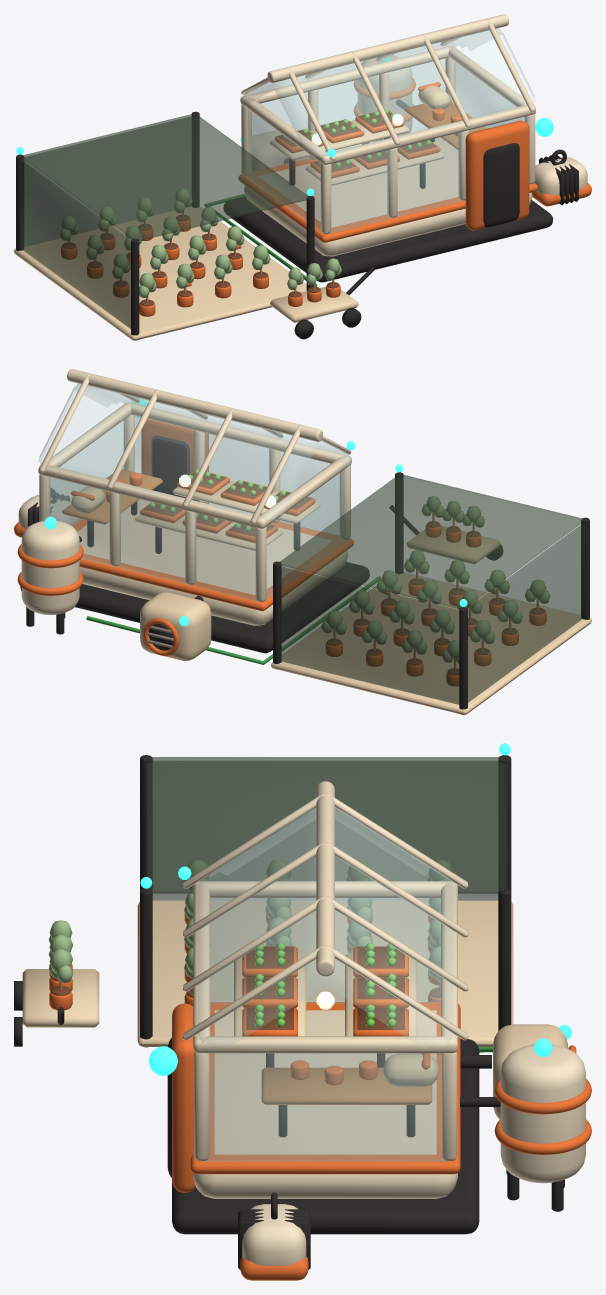
The model's file is nursery.glb.
3 renders of one model, top to bottom at view 1: azimuth 30°, elevation 25°; view 2: azimuth 150°, elevation 25°; view 3: azimuth 270°, elevation 25°, orthographic. The views are drawn at different scales.
Visible parts, largest first — view 1: Cube.003, Cube.058, Cube.001, Cube.032, Cube, Cube.002, Sphere.044, Cube.034, Cube.048, Sphere.002, Cube.051, pipe.022 (+1 smaller); view 2: Cube.058, Cube.003, Cube.001, Cube.032, Cube, Cube.002, Sphere.044, Cube.034, Cube.048, pipe.022, Sphere.002, Cube.051 (+1 smaller); view 3: Cube.003, Cube.001, Cube.058, Cube.032, Cube, Cube.002, Sphere.044, Cube.048, Cube.034, Sphere.002, Cube.051, Sphere.
Boxes of the visible parts, x1=… form: Cube.003: x1=241, y1=28, x2=535, y2=233; Cube.058: x1=21, y1=113, x2=308, y2=328; Cube.001: x1=240, y1=14, x2=587, y2=256; Cube.032: x1=14, y1=120, x2=444, y2=340; Cube: x1=16, y1=99, x2=578, y2=340; Cube.002: x1=61, y1=78, x2=591, y2=316; Sphere.044: x1=60, y1=188, x2=341, y2=297; Cube.034: x1=62, y1=111, x2=436, y2=306; Cube.048: x1=68, y1=102, x2=486, y2=302; Sphere.002: x1=283, y1=109, x2=431, y2=168; Cube.051: x1=418, y1=85, x2=450, y2=110; pipe.022: x1=204, y1=194, x2=317, y2=286; Cube.058: x1=279, y1=474, x2=584, y2=704; Cube.003: x1=38, y1=383, x2=351, y2=601; Cube.001: x1=18, y1=369, x2=351, y2=625; Cube.032: x1=135, y1=481, x2=591, y2=714; Cube: x1=20, y1=435, x2=589, y2=714; Cube.002: x1=14, y1=419, x2=546, y2=685; Sphere.044: x1=321, y1=496, x2=549, y2=663; Cube.034: x1=143, y1=472, x2=544, y2=674; Cube.048: x1=62, y1=469, x2=538, y2=671; pipe.022: x1=86, y1=576, x2=380, y2=664; Sphere.002: x1=149, y1=469, x2=305, y2=532; Cube.051: x1=71, y1=486, x2=105, y2=513; Cube.003: x1=198, y1=807, x2=453, y2=1161; Cube.001: x1=183, y1=781, x2=585, y2=1265; Cube.058: x1=146, y1=757, x2=506, y2=900; Cube.032: x1=22, y1=900, x2=567, y2=1119; Cube: x1=14, y1=755, x2=564, y2=1269; Cube.002: x1=49, y1=907, x2=591, y2=1280; Sphere.044: x1=48, y1=860, x2=452, y2=982; Cube.048: x1=59, y1=981, x2=440, y2=1104; Cube.034: x1=51, y1=946, x2=440, y2=1029; Sphere.002: x1=255, y1=943, x2=396, y2=1027; Cube.051: x1=383, y1=1053, x2=438, y2=1087; Sphere: x1=140, y1=743, x2=572, y2=1075.
Size of the model in its own units: 2.08 by 0.7184 by 1.35.
